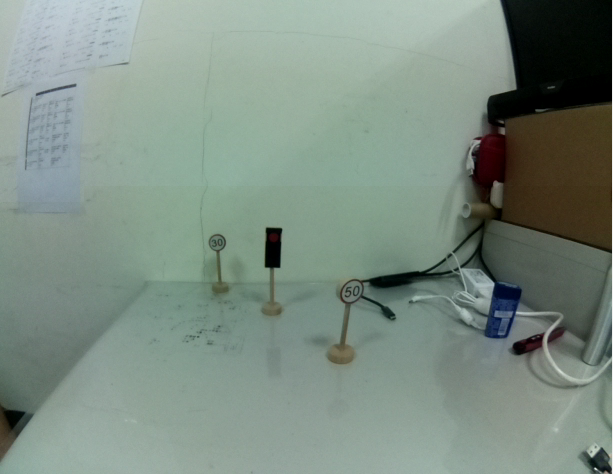Red: (263, 224, 283, 271)
Speed30: (208, 232, 228, 251)
Speed50: (337, 275, 364, 306)
